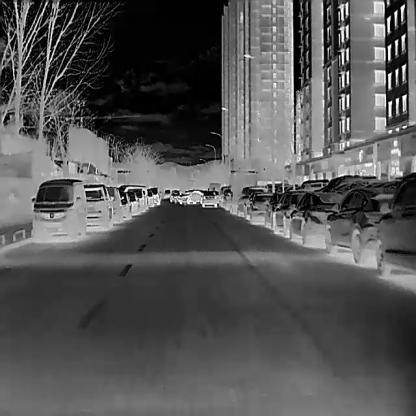car: (324, 185, 392, 262), (376, 173, 415, 277), (30, 178, 86, 238), (289, 189, 341, 242), (82, 183, 112, 227), (249, 192, 272, 224), (106, 184, 121, 224), (178, 190, 202, 202), (202, 192, 216, 208), (171, 188, 179, 202), (165, 188, 170, 198)
